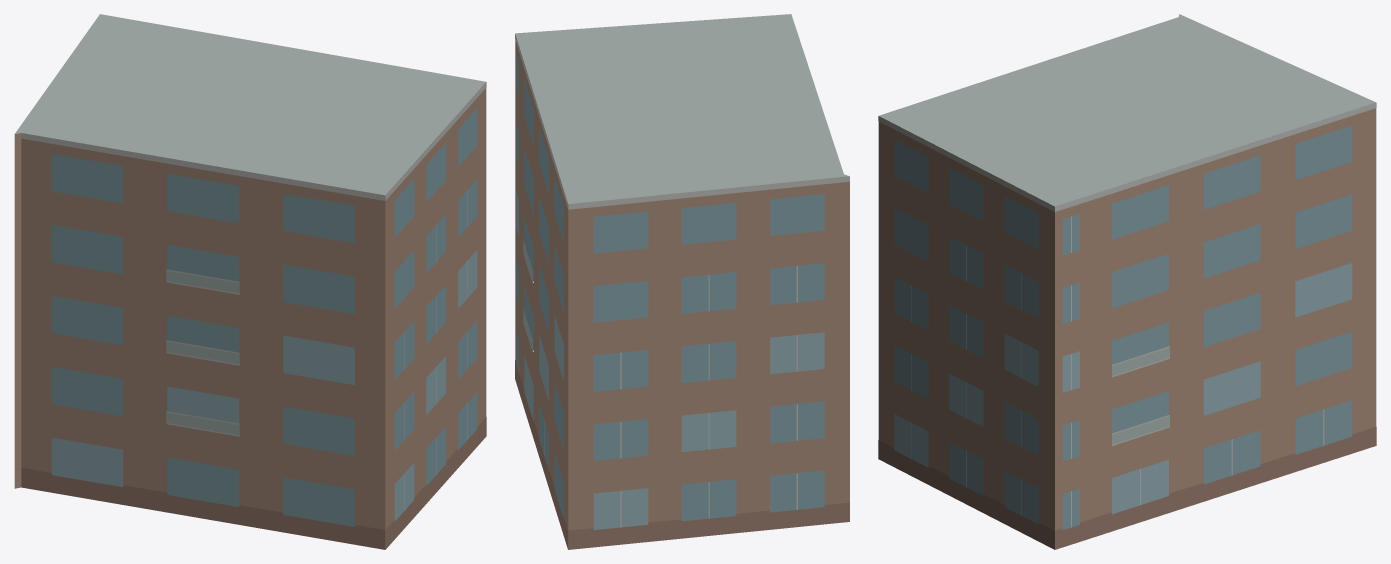
Rendered from survey-upis-32777032.glb.
3 renders of one model, left to right at view 1: azimuth 30°, elevation 25°; view 2: azimuth 150°, elevation 25°; view 3: azimuth 270°, elevation 25°, orthographic. The views are drawn at different scales.
Parts seen in each view (by area): view 1: survey-upis-32777032.tmp; view 2: survey-upis-32777032.tmp; view 3: survey-upis-32777032.tmp.
Boxes of the visible parts, x1,y1,x2,y2 form: survey-upis-32777032.tmp: (14, 14, 486, 549); survey-upis-32777032.tmp: (515, 14, 849, 549); survey-upis-32777032.tmp: (878, 14, 1376, 549).
Bounding box in the file's own units: 18.36 × 15.25 × 20.06.
